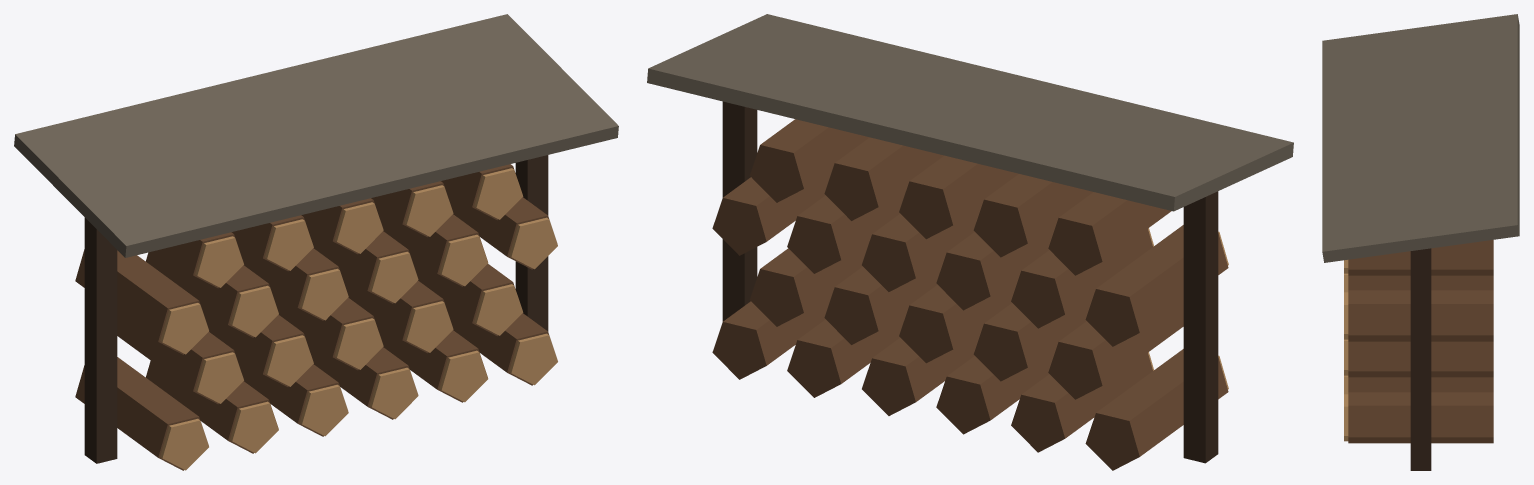
File: forest_woodpile.glb
3 views of the same model, side by side, from view 1: azimuth 30°, elevation 25°; view 2: azimuth 150°, elevation 25°; view 3: azimuth 270°, elevation 25° (orthographic). The views are drawn at different scales.
Visible parts, largest first — view 1: forest_woodpile; view 2: forest_woodpile; view 3: forest_woodpile.
Part boxes in pixels (bbox=[...]): forest_woodpile: bbox=[14, 14, 618, 470]; forest_woodpile: bbox=[647, 14, 1293, 470]; forest_woodpile: bbox=[1322, 14, 1519, 470].
Bounding box in the file's own units: 2.4 × 1.35 × 0.9483.
